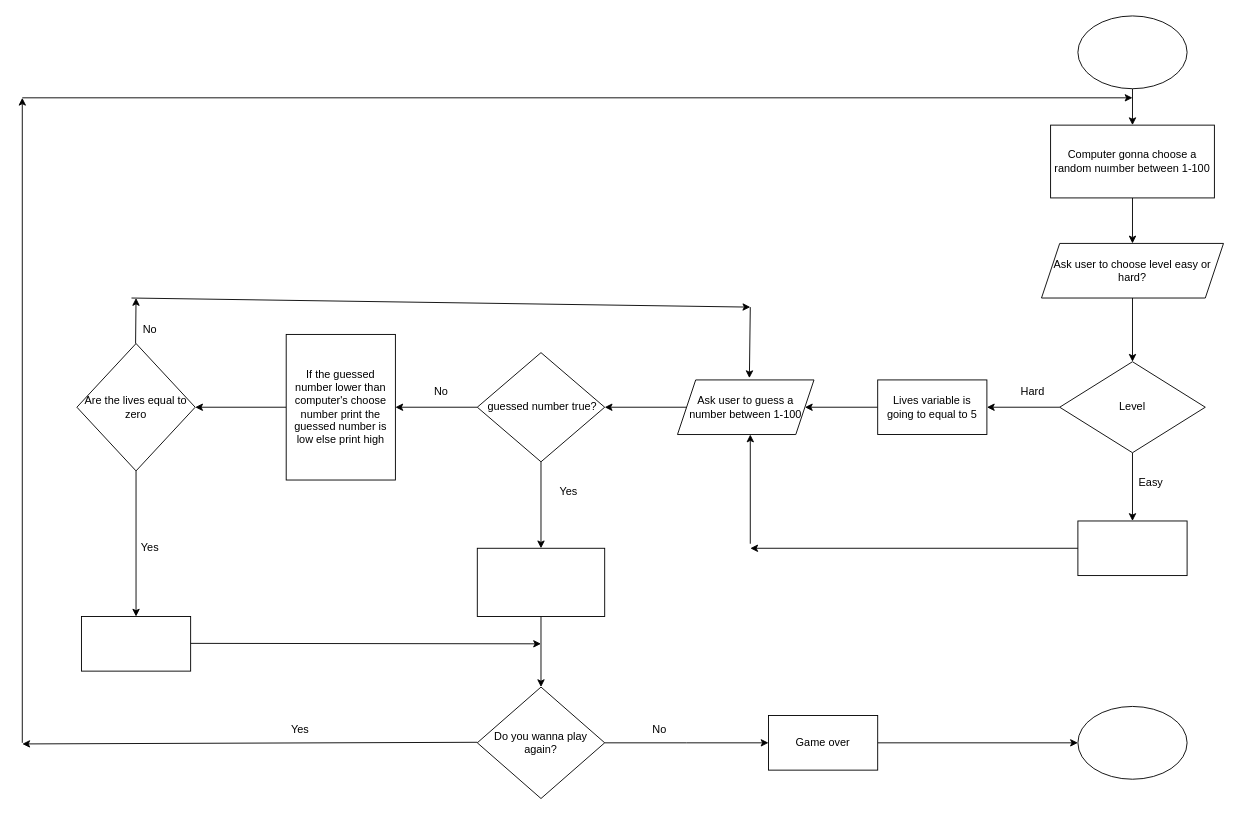
The diagram is 1239 pixels wide and 814 high, and some of its shapes have lost their labels. The shapes that lost their labels are listed below. From the top down, each one's centre as x and y in pixels, then its label:
At (1132,52): "start".
At (1132,548): "Lives variable is going to equal to 10".
At (540,582): "Congrats. You guessed the number true".
At (136,643): "You lost the game.The chosen number was .....".
At (1132,742): "Stop".
